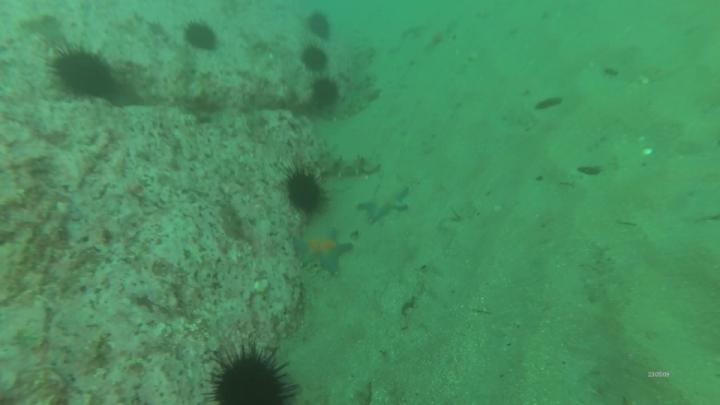echinus: (211, 348, 296, 405), (51, 46, 122, 104), (285, 167, 326, 215), (184, 20, 221, 54), (306, 75, 343, 108), (302, 10, 333, 40), (299, 46, 333, 73)
starfish: (298, 227, 355, 278), (357, 182, 411, 227)
